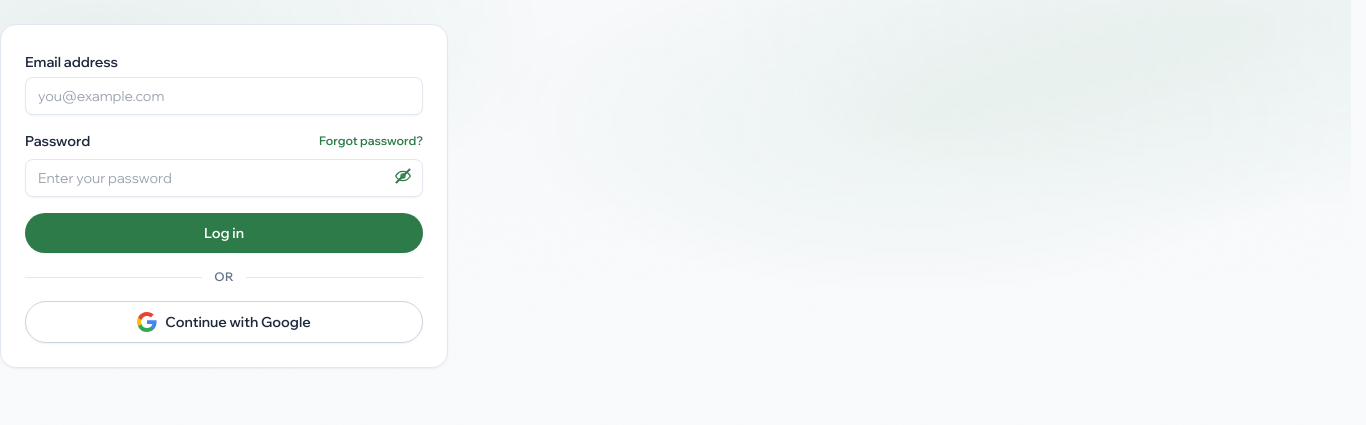
Test case: LoginForm › shows required validation errors on empty submit
Click the button "Log in". click: (224, 233)
box: [25, 213, 423, 253]
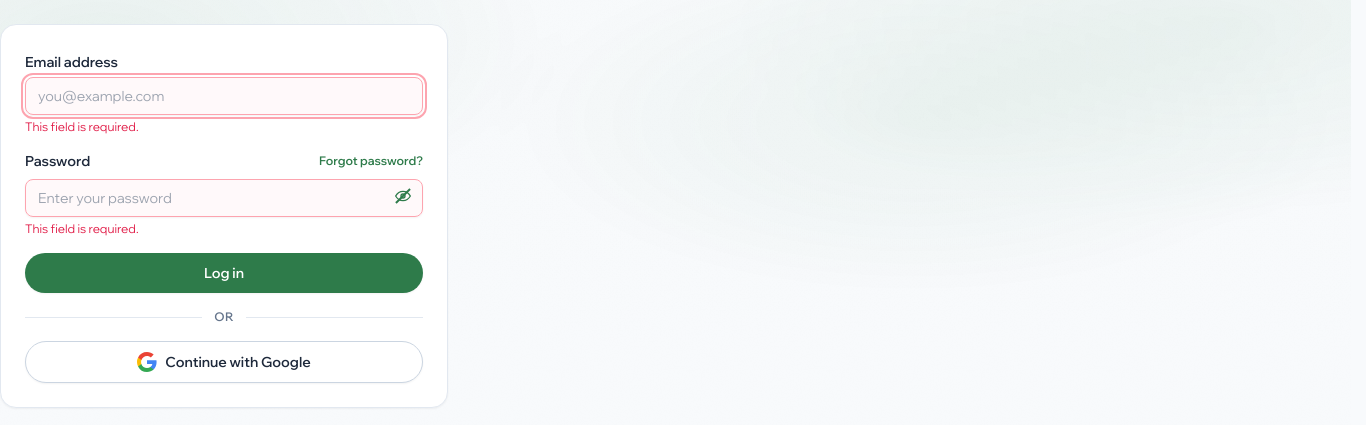
Check: the text "This field is required." is shown 2 times, box [25, 119, 139, 134]; [25, 221, 139, 236]
